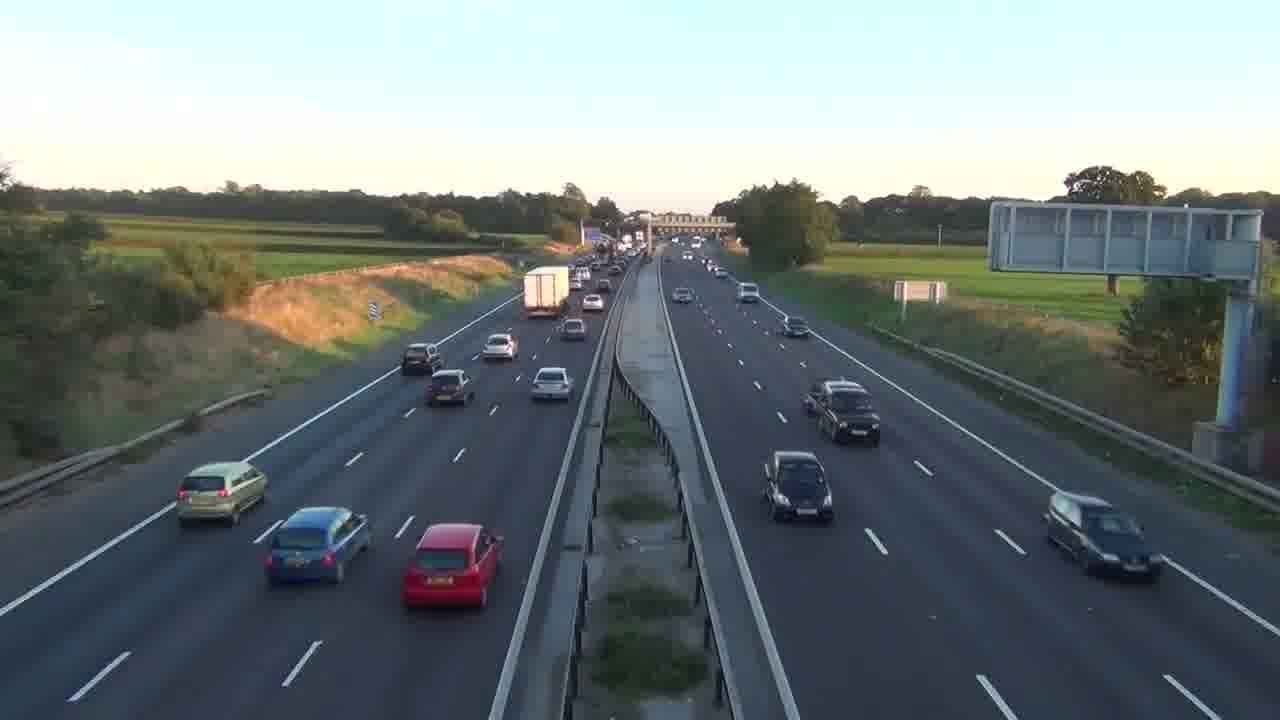car: (1042, 490, 1161, 582), (253, 505, 373, 584), (400, 522, 505, 609), (175, 460, 269, 525), (760, 449, 835, 522), (425, 368, 474, 406), (530, 366, 573, 402), (558, 318, 587, 341), (672, 286, 694, 303)
